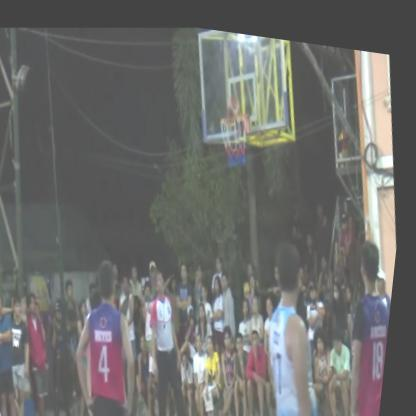basketball: (224, 85, 247, 118)
rim: (213, 100, 263, 170)
